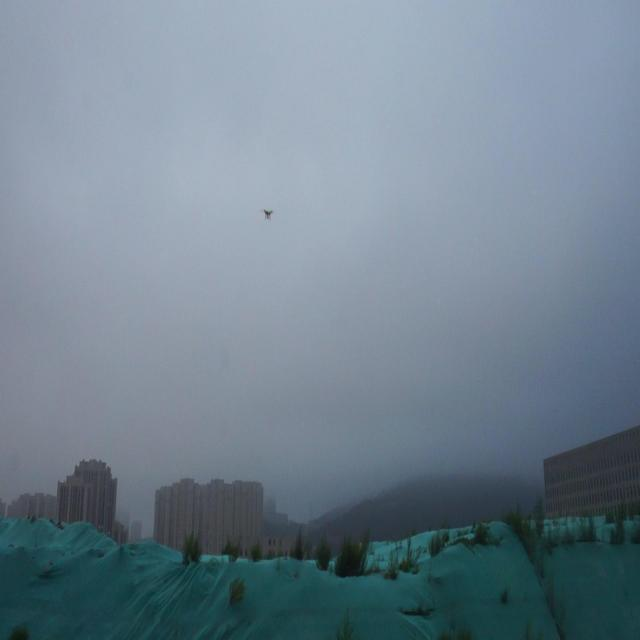UAV: (263, 209, 273, 221)
